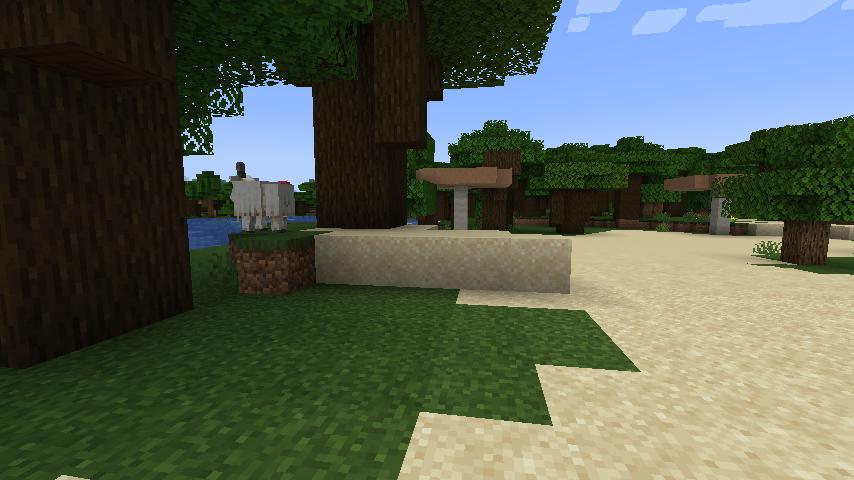goat: (229, 161, 297, 233)
